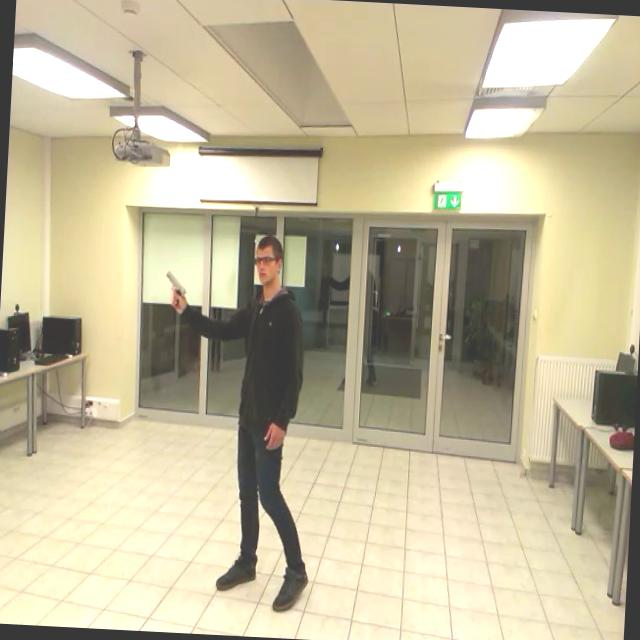handgun: (154, 265, 200, 322)
